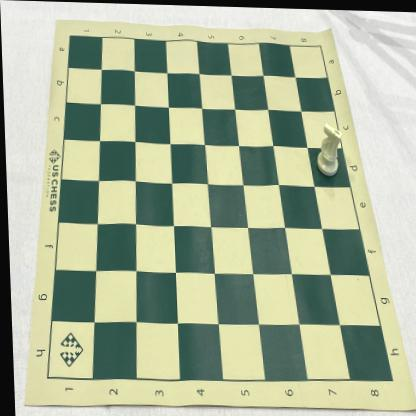white-knight: (314, 120, 342, 176)
